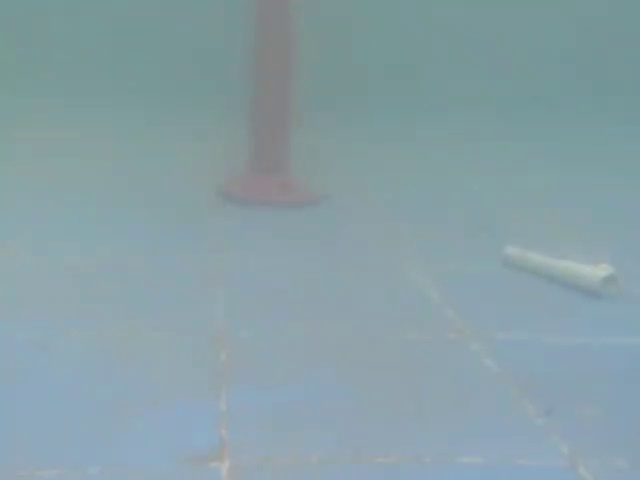flare: (200, 0, 335, 222)
